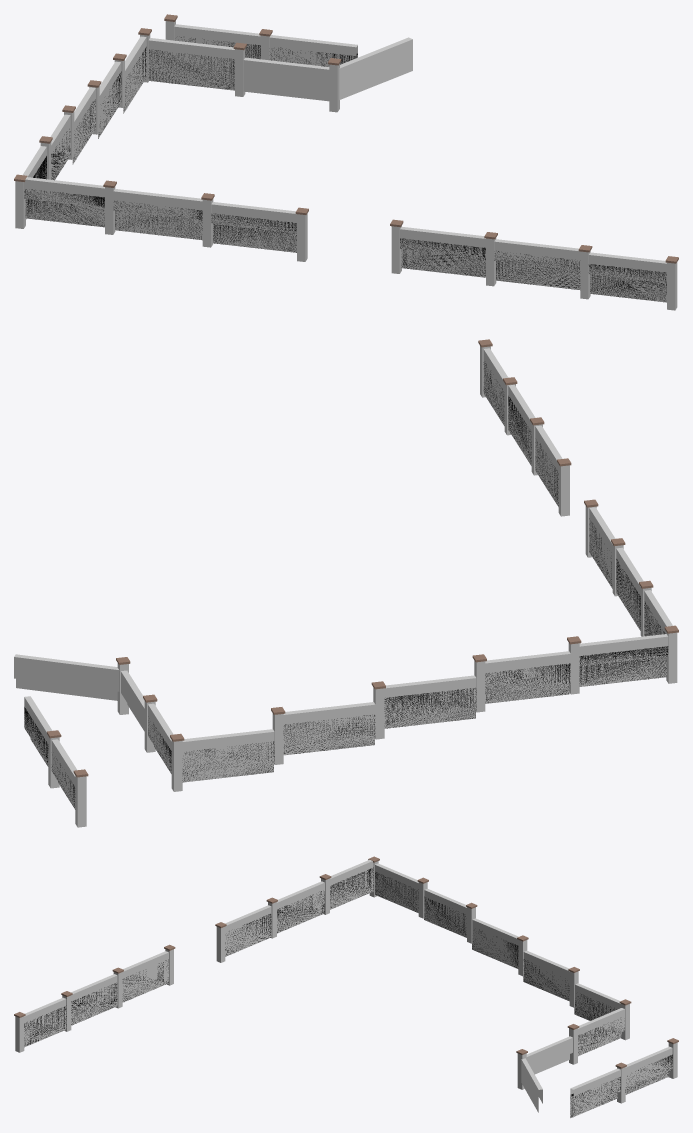
Rendered from condo_park_fence.dae.
The picture shows the model from 3 angles, top to bottom: view 1: azimuth 30°, elevation 25°; view 2: azimuth 150°, elevation 25°; view 3: azimuth 270°, elevation 25°; orthographic projection. The views are drawn at different scales.
Visible parts, largest first — view 1: Colmesh-1, condo_park_fence_a500; view 2: Colmesh-1, condo_park_fence_a500; view 3: Colmesh-1, condo_park_fence_a500.
Part boxes in pixels (x1,y1,x2,y2): Colmesh-1: [14, 14, 678, 310]; condo_park_fence_a500: [24, 37, 666, 302]; Colmesh-1: [14, 339, 678, 827]; condo_park_fence_a500: [24, 362, 668, 809]; Colmesh-1: [14, 856, 678, 1118]; condo_park_fence_a500: [24, 867, 672, 1117].
Bounding box in the file's own units: 48.18 × 73.31 × 11.76.
